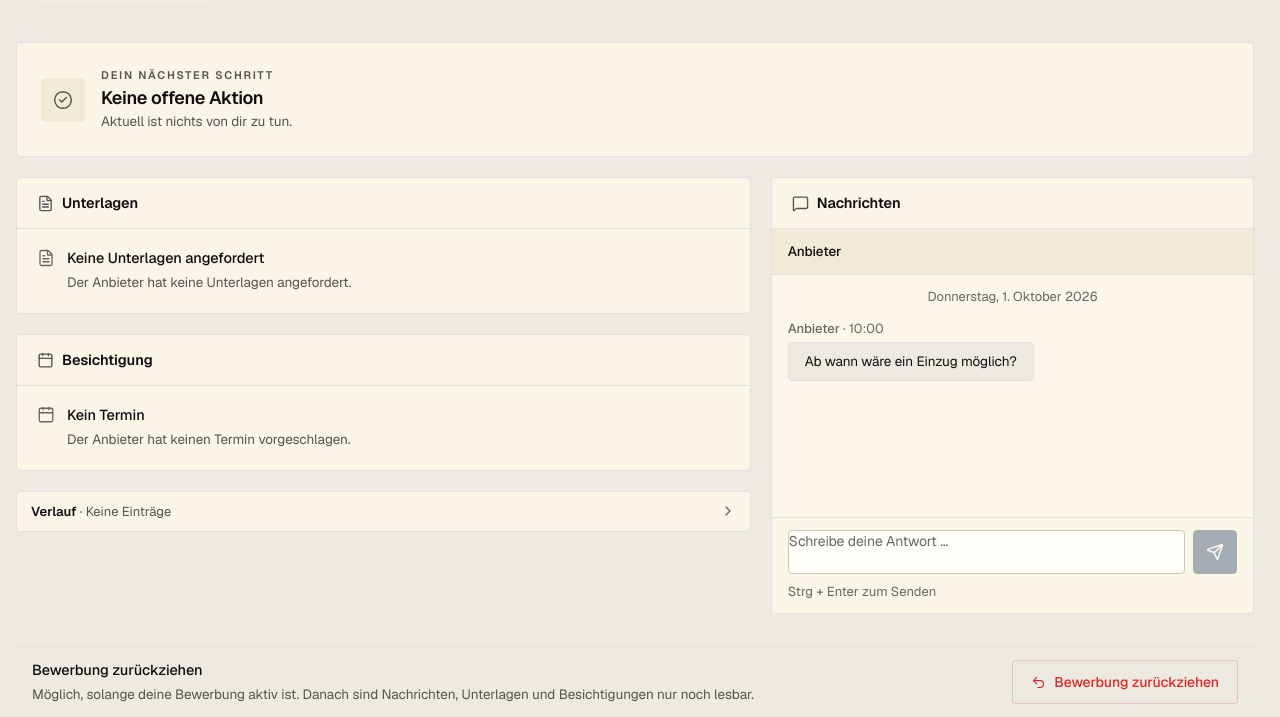
ApplicationWorkspace conversation › clears the controlled draft only after a successful keyboard submission
(page scrolled)
Type "Meine Antwort" into the text box named "Antwort an den Anbieter" at (986,552), box [788,530,1185,574]
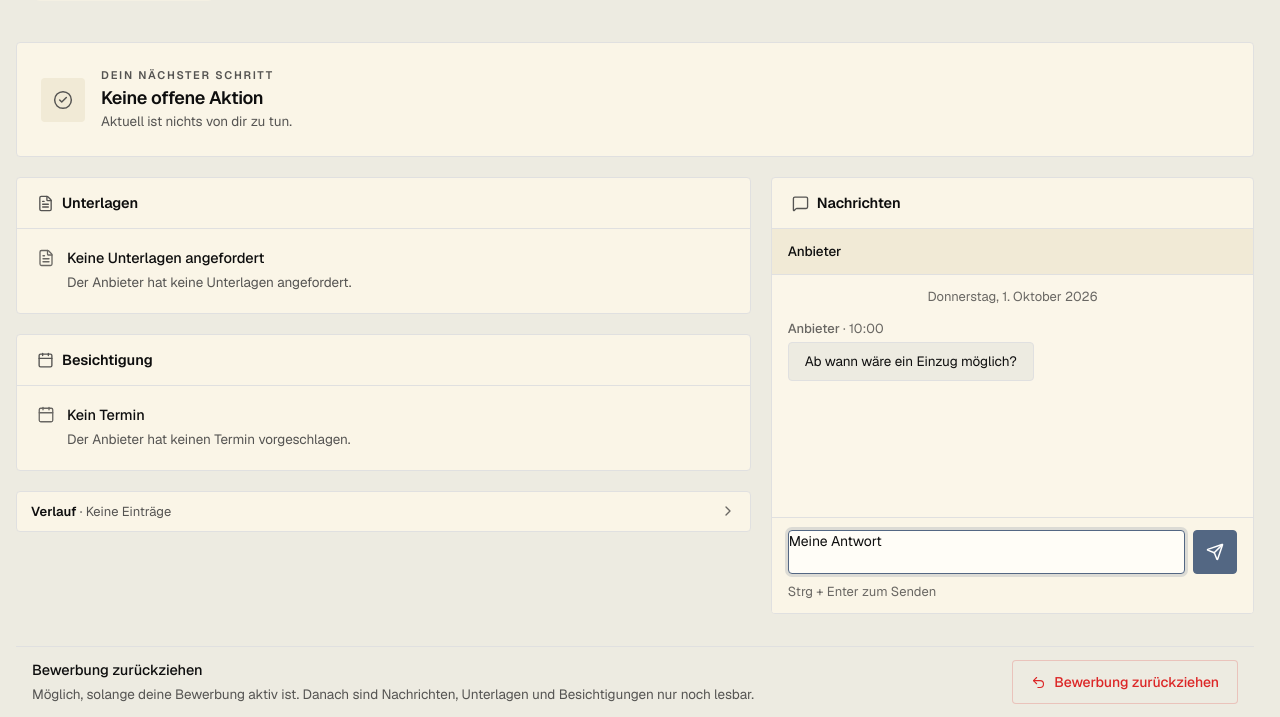
Type keys "{Control>}{Enter}{/Control}"
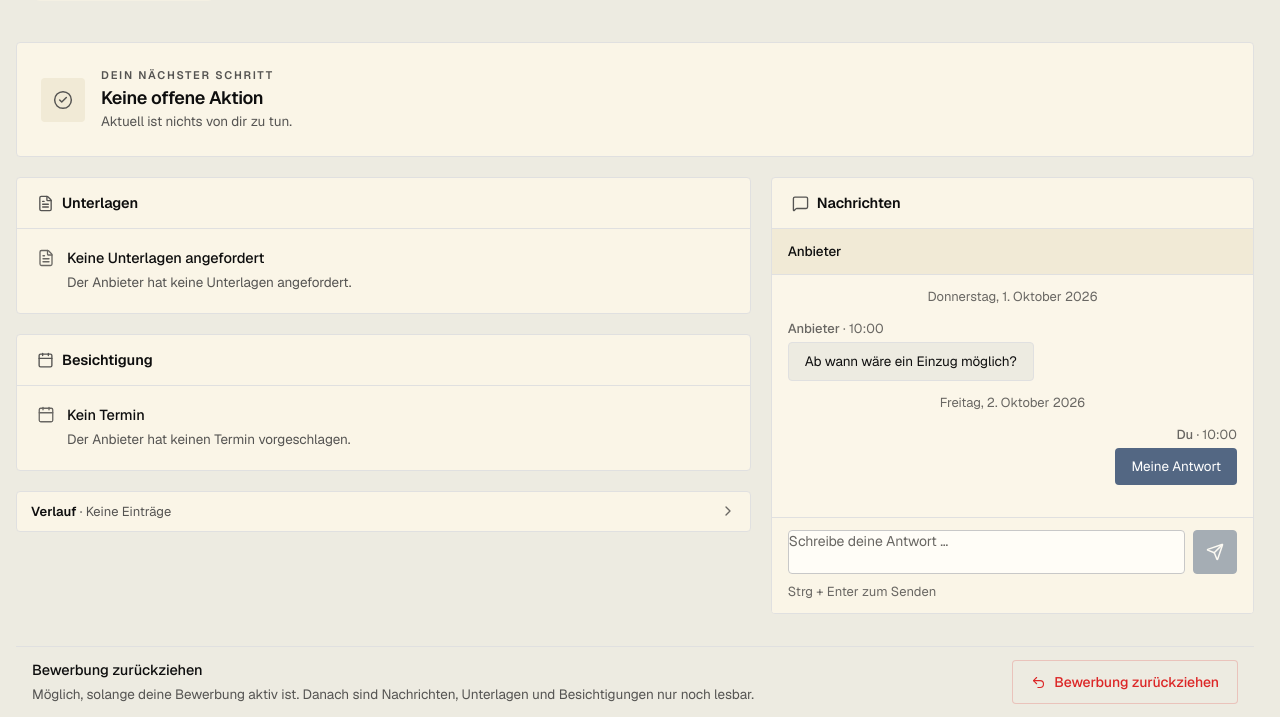
Check: the text "Meine Antwort" is shown, box [1116,448,1237,485]
Check: the text box is empty, box [788,530,1185,574]
